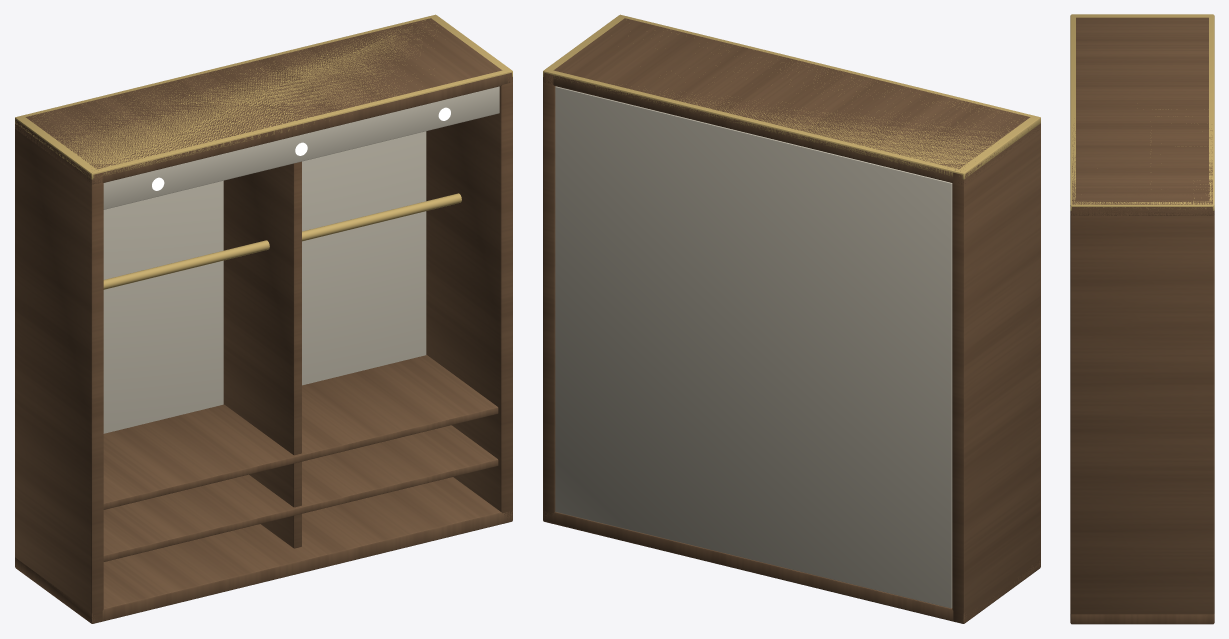
The model's file is pf_display_clothing_rack_t4.glb.
The picture shows the model from 3 angles, left to right: view 1: azimuth 30°, elevation 25°; view 2: azimuth 150°, elevation 25°; view 3: azimuth 270°, elevation 25°; orthographic projection. The views are drawn at different scales.
Visible parts, largest first — view 1: Case_Back, Case_Left, Crown_Main, Case_Right, Shelf_02, Case_Base, Millwork_Divider_01, Crown_Trim, Shelf_01, Header_Back, Case_Top, Hang_Rail; view 2: Case_Back, Case_Left, Crown_Main, Crown_Trim, Case_Base, Case_Right, Case_Top; view 3: Case_Right, Crown_Main, Crown_Trim, Case_Top, Case_Base.
Part boxes in pixels (x1=…): Case_Back: x1=103, y1=131, x2=426, y2=433; Case_Left: x1=15, y1=120, x2=103, y2=623; Crown_Main: x1=25, y1=18, x2=502, y2=169; Case_Right: x1=426, y1=72, x2=512, y2=523; Shelf_02: x1=103, y1=355, x2=498, y2=509; Case_Base: x1=15, y1=477, x2=512, y2=623; Millwork_Divider_01: x1=223, y1=161, x2=301, y2=548; Crown_Trim: x1=15, y1=14, x2=512, y2=179; Shelf_01: x1=103, y1=425, x2=498, y2=561; Header_Back: x1=103, y1=86, x2=499, y2=209; Case_Top: x1=15, y1=73, x2=512, y2=184; Hang_Rail: x1=103, y1=193, x2=461, y2=289; Case_Back: x1=555, y1=86, x2=952, y2=608; Case_Left: x1=952, y1=123, x2=1040, y2=623; Crown_Main: x1=553, y1=18, x2=1030, y2=169; Crown_Trim: x1=543, y1=14, x2=1040, y2=179; Case_Base: x1=543, y1=511, x2=1040, y2=623; Case_Right: x1=543, y1=72, x2=555, y2=523; Case_Top: x1=543, y1=73, x2=1039, y2=184; Case_Right: x1=1070, y1=200, x2=1214, y2=624; Crown_Main: x1=1076, y1=17, x2=1208, y2=201; Crown_Trim: x1=1070, y1=14, x2=1214, y2=210; Case_Top: x1=1070, y1=130, x2=1214, y2=215; Case_Base: x1=1070, y1=614, x2=1214, y2=624.
Size of the model in its own units: 2.2 by 2.25 by 0.7.
5 materials, 1 textured.
